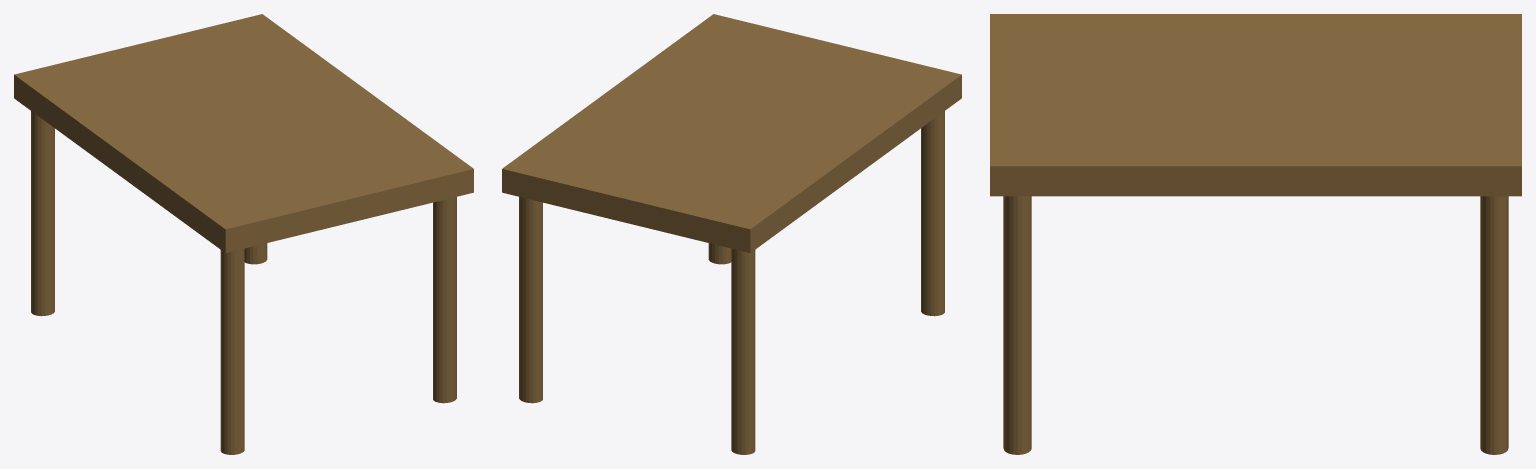
Rendered from gutair.glb.
3 renders of one model, left to right at view 1: azimuth 30°, elevation 25°; view 2: azimuth 150°, elevation 25°; view 3: azimuth 270°, elevation 25°, orthographic. The views are drawn at different scales.
Visible parts, largest first — view 1: Mesh_Mesh_head_geo.001_lambert2SG.001; view 2: Mesh_Mesh_head_geo.001_lambert2SG.001; view 3: Mesh_Mesh_head_geo.001_lambert2SG.001.
Boxes of the visible parts, x1,y1,x2,y2 form: Mesh_Mesh_head_geo.001_lambert2SG.001: (14,14,473,454); Mesh_Mesh_head_geo.001_lambert2SG.001: (502,14,961,454); Mesh_Mesh_head_geo.001_lambert2SG.001: (990,14,1521,454).
Size of the model in its own units: 0.0334 by 0.03 by 0.0493.
